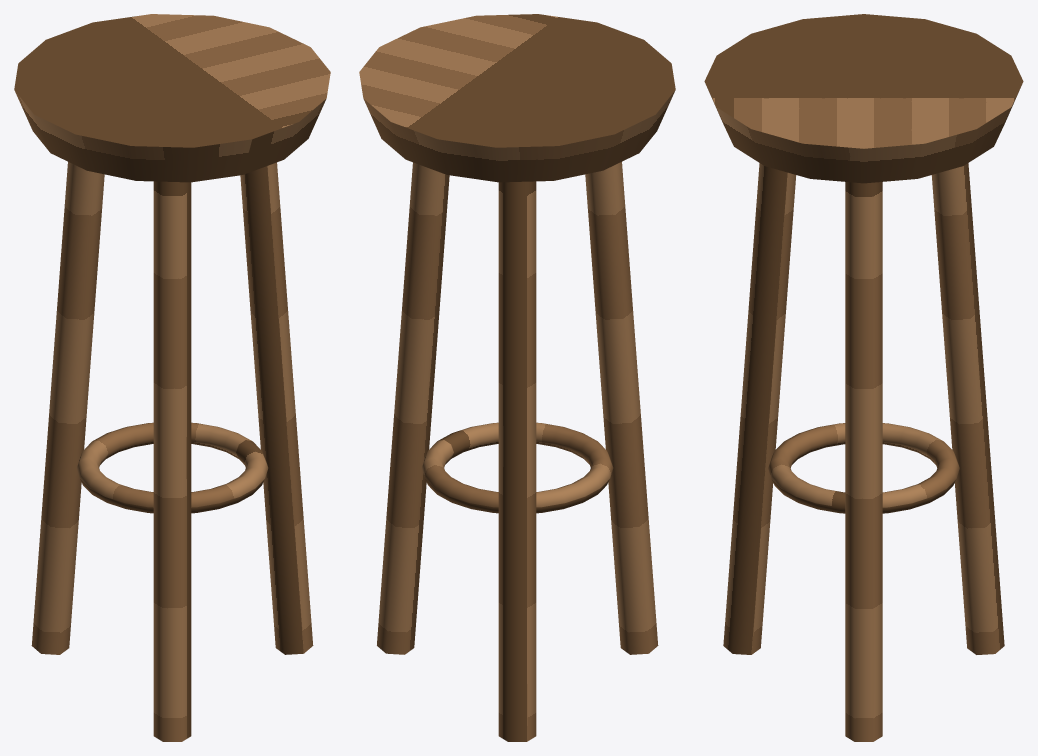
Rendered from stool_v1.glb.
The picture shows the model from 3 angles, left to right: view 1: azimuth 30°, elevation 25°; view 2: azimuth 150°, elevation 25°; view 3: azimuth 270°, elevation 25°; orthographic projection.
Parts seen in each view (by area): view 1: dyn_wood_variant; view 2: dyn_wood_variant; view 3: dyn_wood_variant.
Part boxes in pixels (bbox=[...]): dyn_wood_variant: bbox=[14, 14, 330, 741]; dyn_wood_variant: bbox=[359, 14, 675, 741]; dyn_wood_variant: bbox=[704, 14, 1023, 741].
Size of the model in its own units: 0.3401 by 0.7017 by 0.3401.
Materials: 1 (1 with a texture image).
